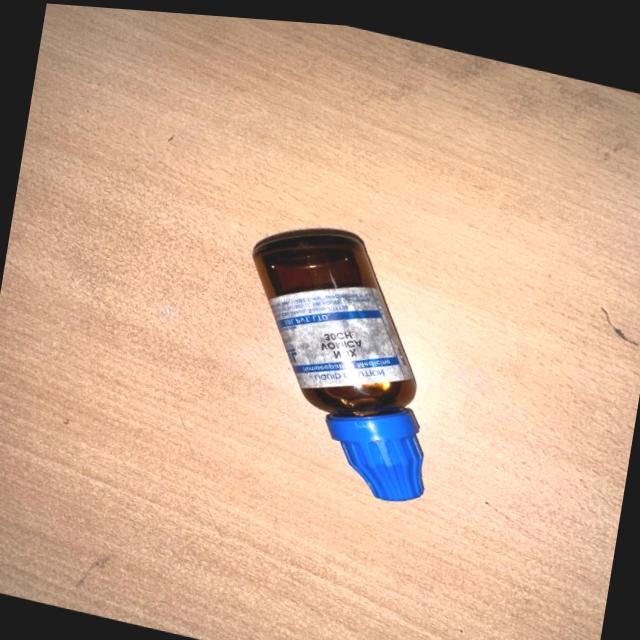medicine: (243, 229, 458, 503)
